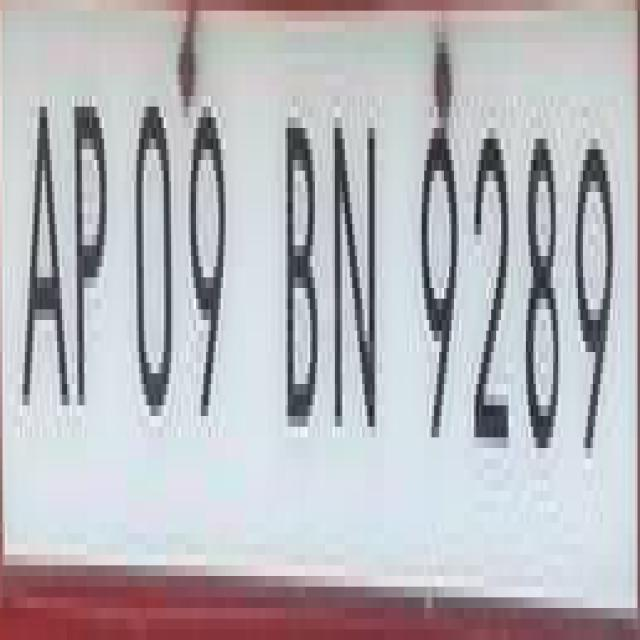license_plate: (27, 0, 640, 608)
